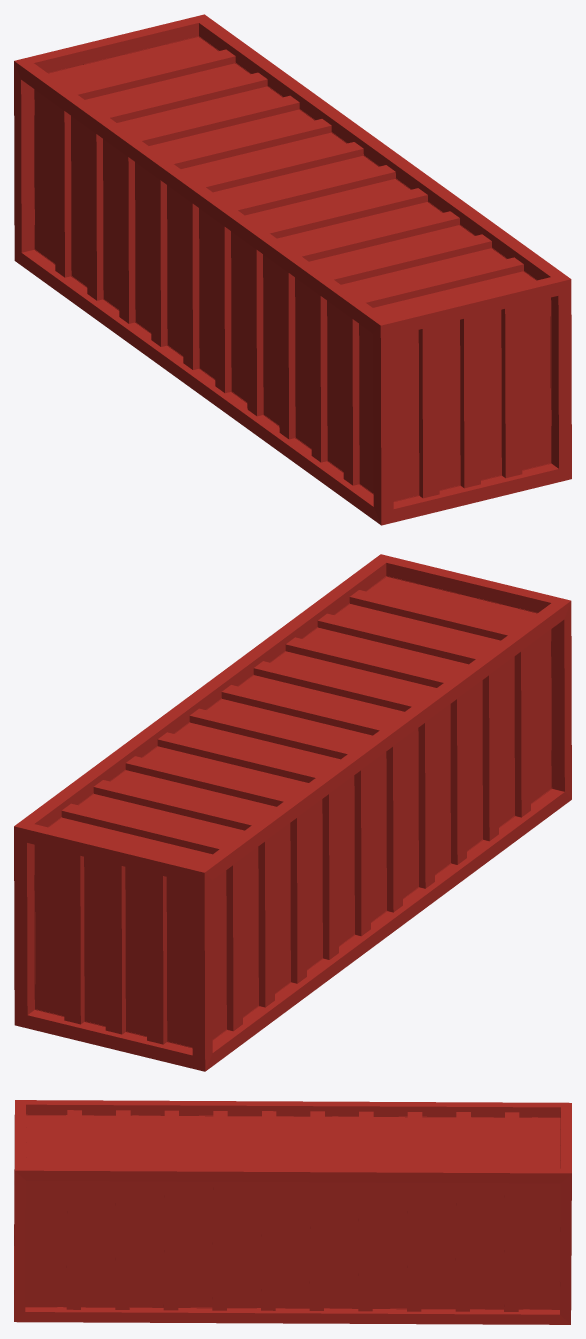
File: 08 Containers.FBX
The picture shows the model from 3 angles, top to bottom: view 1: azimuth 30°, elevation 25°; view 2: azimuth 150°, elevation 25°; view 3: azimuth 270°, elevation 25°; orthographic projection. The views are drawn at different scales.
Parts seen in each view (by area): view 1: Box116; view 2: Box116; view 3: Box116.
Boxes of the visible parts, x1,y1,x2,y2 form: Box116: (14,14,571,525); Box116: (14,554,571,1071); Box116: (14,1100,571,1324).
Bounding box in the file's own units: 300 × 306 × 1002.
